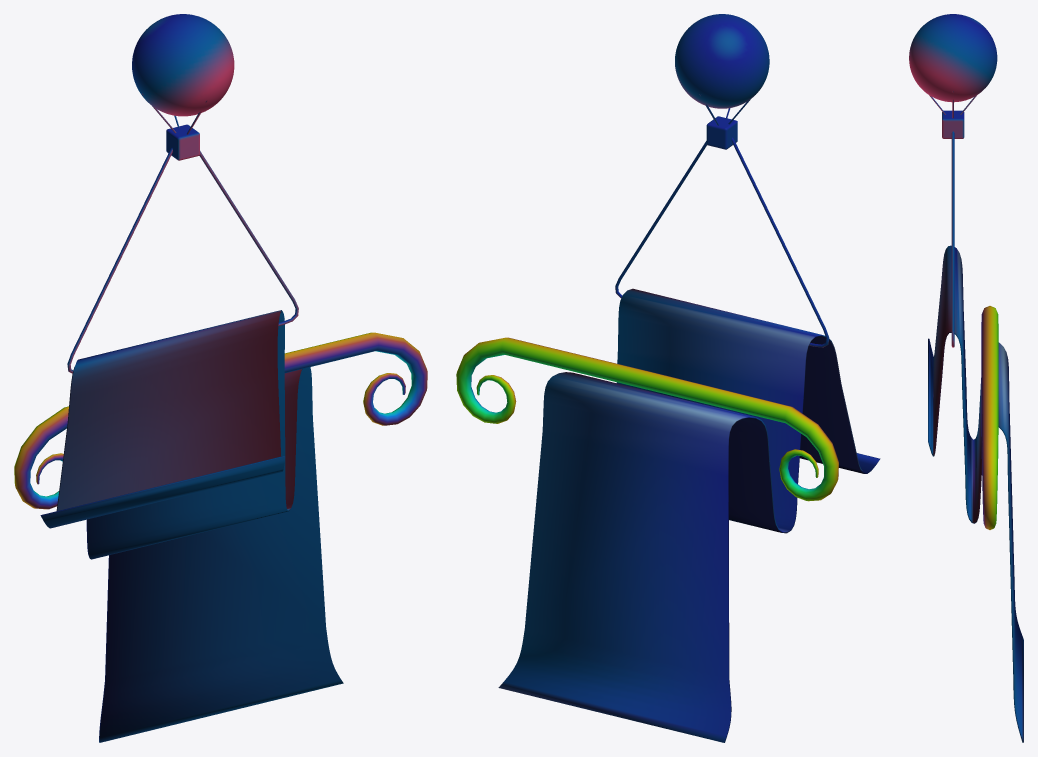
File: Platform_Paper_01 (1).fbx
3 renders of one model, left to right at view 1: azimuth 30°, elevation 25°; view 2: azimuth 150°, elevation 25°; view 3: azimuth 270°, elevation 25°, orthographic. The views are drawn at different scales.
Parts seen in each view (by area): view 1: Paper, Curl; view 2: Paper, Curl; view 3: Paper, Curl.
Part boxes in pixels (left/top/right/bottom): Paper: left=40, top=14, right=343, bottom=742; Curl: left=14, top=332, right=427, bottom=509; Paper: left=498, top=14, right=880, bottom=742; Curl: left=456, top=337, right=838, bottom=501; Paper: left=909, top=14, right=1023, bottom=742; Curl: left=981, top=306, right=998, bottom=529.
Bounding box in the file's own units: 570 × 960 × 156.
